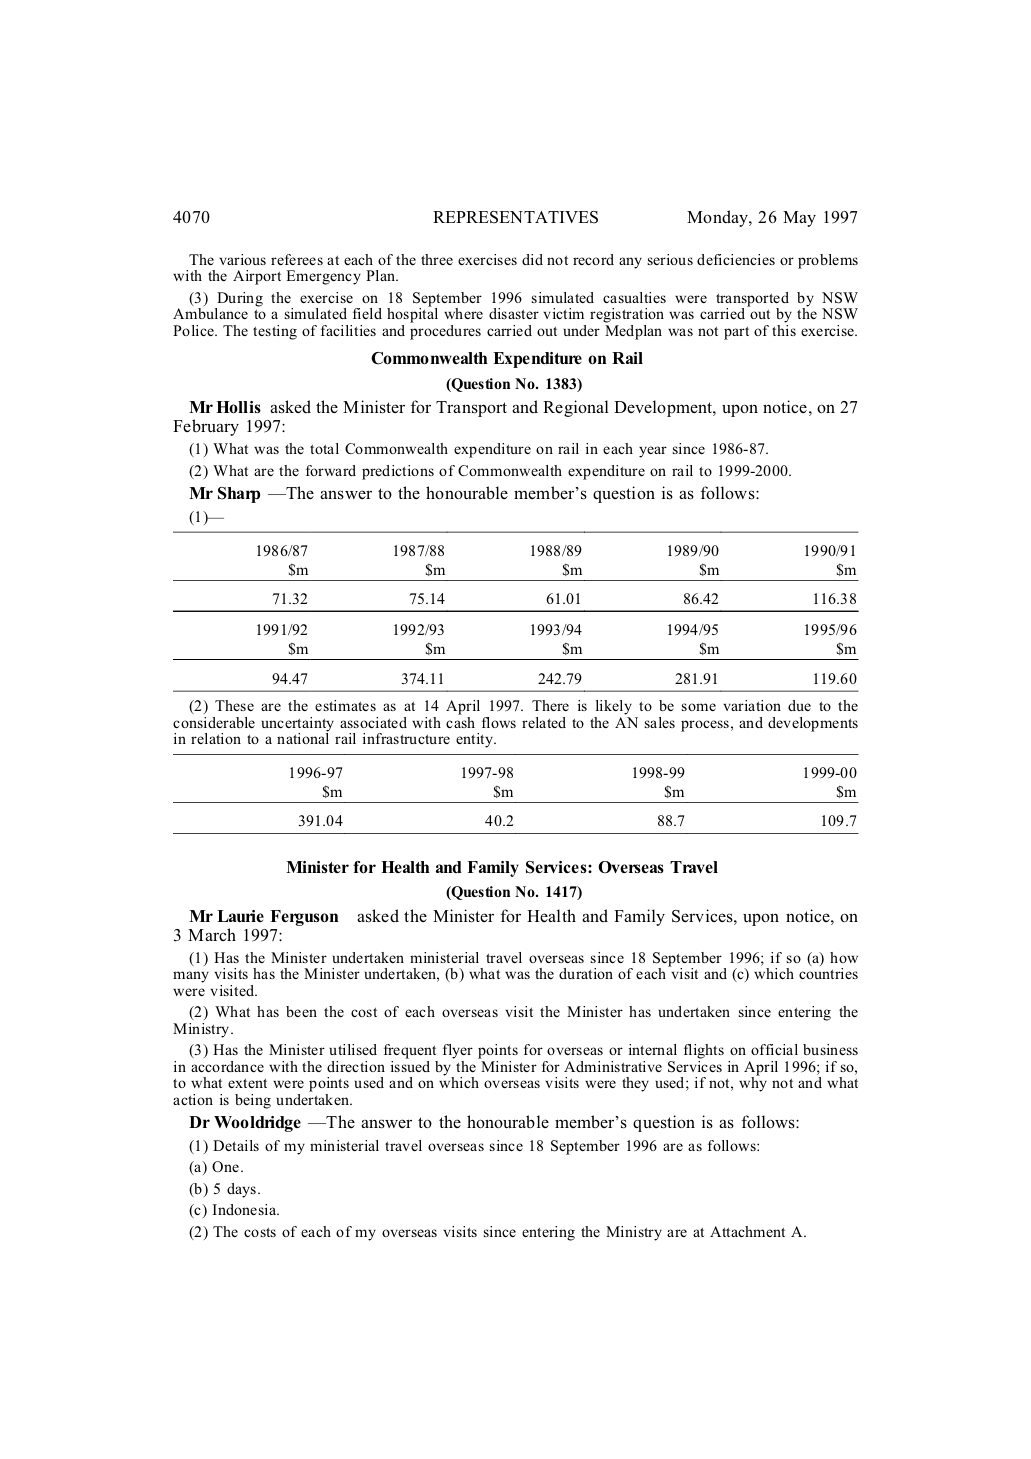Table: (173, 531, 858, 833)
